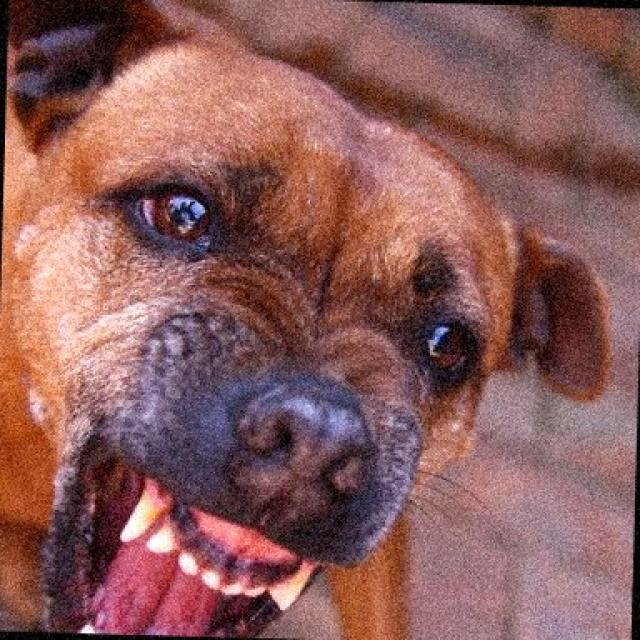angry: (8, 0, 612, 640)
